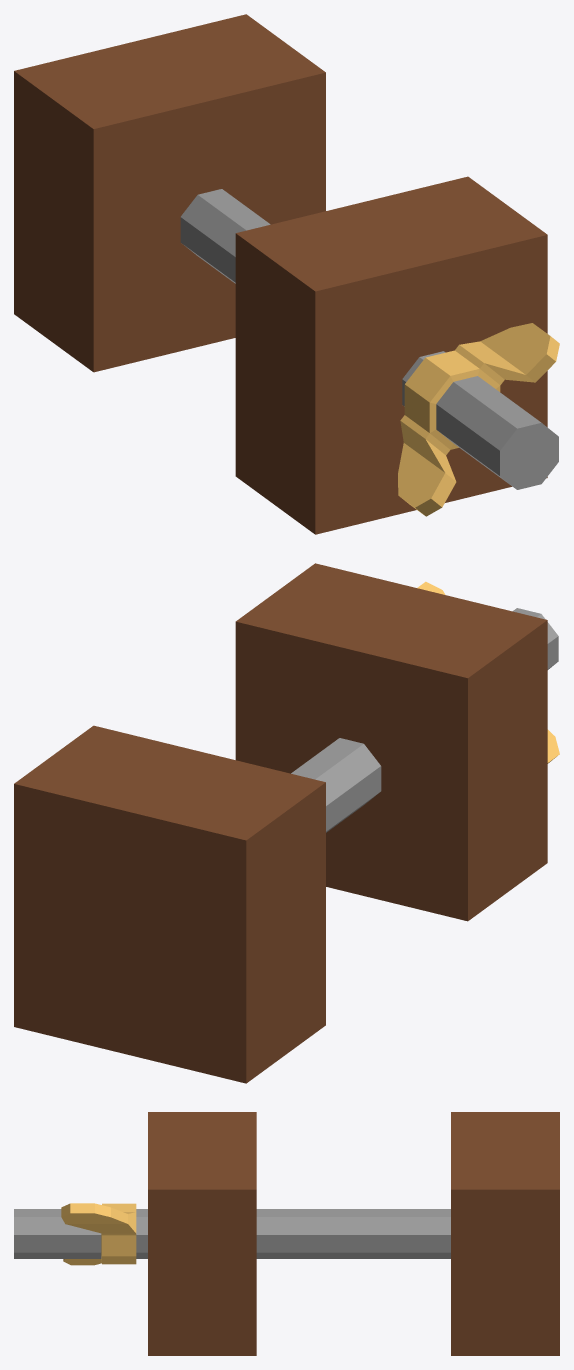
The model's file is clamp02.gltf.
The picture shows the model from 3 angles, top to bottom: view 1: azimuth 30°, elevation 25°; view 2: azimuth 150°, elevation 25°; view 3: azimuth 270°, elevation 25°; orthographic projection. The views are drawn at different scales.
Parts seen in each view (by area): view 1: Cylinder; view 2: Cylinder; view 3: Cylinder.
Boxes of the visible parts, x1,y1,x2,y2 form: Cylinder: (14,14,559,534); Cylinder: (14,563,559,1083); Cylinder: (14,1112,559,1355).
Size of the model in its own units: 0.0639 by 0.0639 by 0.1901.
1 material, 1 textured.
